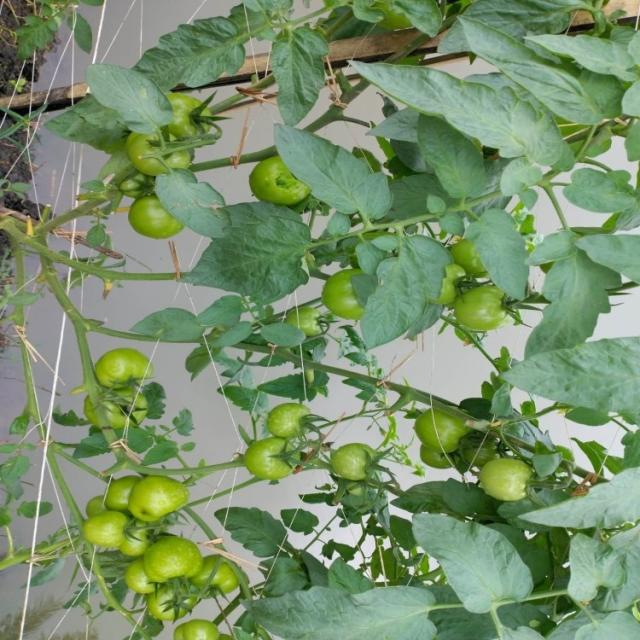tomato: (240, 149, 331, 228), (418, 386, 496, 473), (134, 474, 212, 540), (95, 343, 185, 400), (320, 425, 393, 488), (196, 549, 264, 612), (117, 133, 208, 177), (249, 430, 323, 484), (459, 280, 522, 342), (152, 572, 225, 625), (107, 483, 186, 525), (317, 269, 375, 326), (267, 401, 338, 447), (153, 527, 209, 585), (78, 502, 137, 556), (481, 449, 541, 502), (128, 189, 185, 243), (162, 87, 213, 144), (127, 517, 171, 573), (103, 392, 158, 435), (283, 299, 332, 342), (122, 556, 172, 597), (446, 235, 481, 290), (172, 611, 222, 640), (74, 490, 115, 524)
